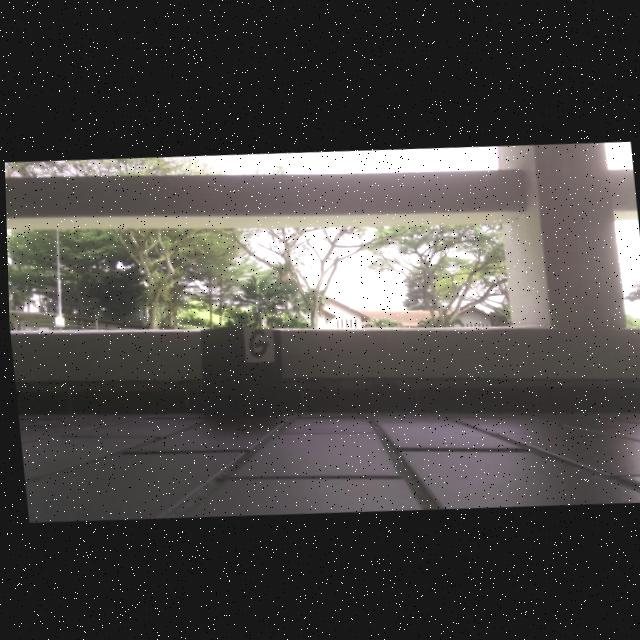G: (248, 328, 266, 354)
